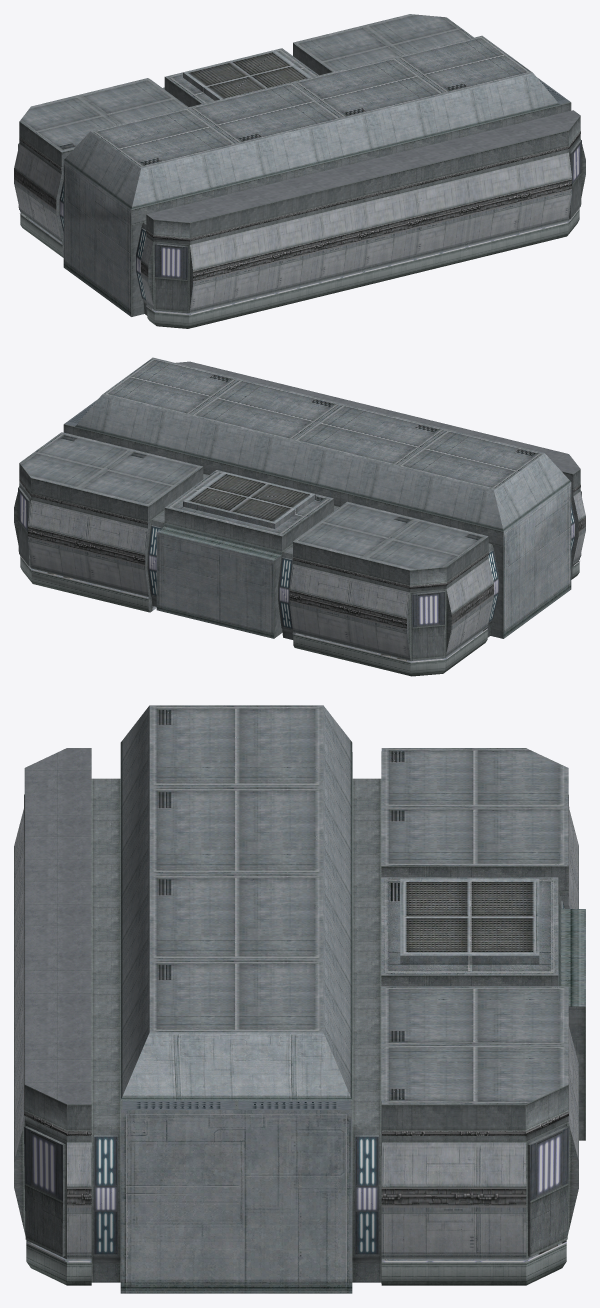
File: thm_newbie_hall_skippedtutorial_r1_mesh.fbx
The picture shows the model from 3 angles, top to bottom: view 1: azimuth 30°, elevation 25°; view 2: azimuth 150°, elevation 25°; view 3: azimuth 270°, elevation 25°; orthographic projection. The views are drawn at different scales.
Parts seen in each view (by area): view 1: mesh_node; view 2: mesh_node; view 3: mesh_node.
Part boxes in pixels (x1,y1,x2,y2): mesh_node: (14,14,585,328); mesh_node: (14,357,585,676); mesh_node: (14,705,585,1293).
Bounding box in the file's own units: 30 × 9 × 19.74.
